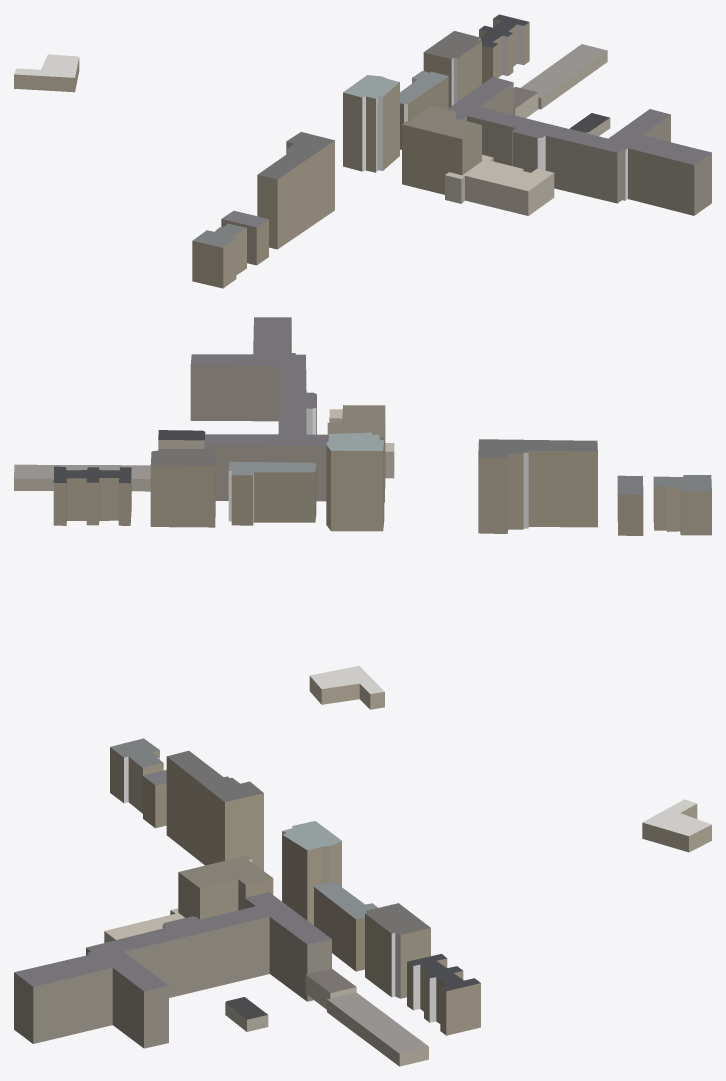
The picture shows the model from 3 angles, top to bottom: view 1: azimuth 30°, elevation 25°; view 2: azimuth 150°, elevation 25°; view 3: azimuth 270°, elevation 25°; orthographic projection. The views are drawn at different scales.
Parts seen in each view (by area): view 1: tuile; view 2: tuile; view 3: tuile.
Part boxes in pixels (x1=…): tuile: x1=14, y1=14, x2=711, y2=288; tuile: x1=14, y1=317, x2=711, y2=709; tuile: x1=14, y1=738, x2=711, y2=1066.
Size of the model in its own units: 219 by 31.23 by 222.
